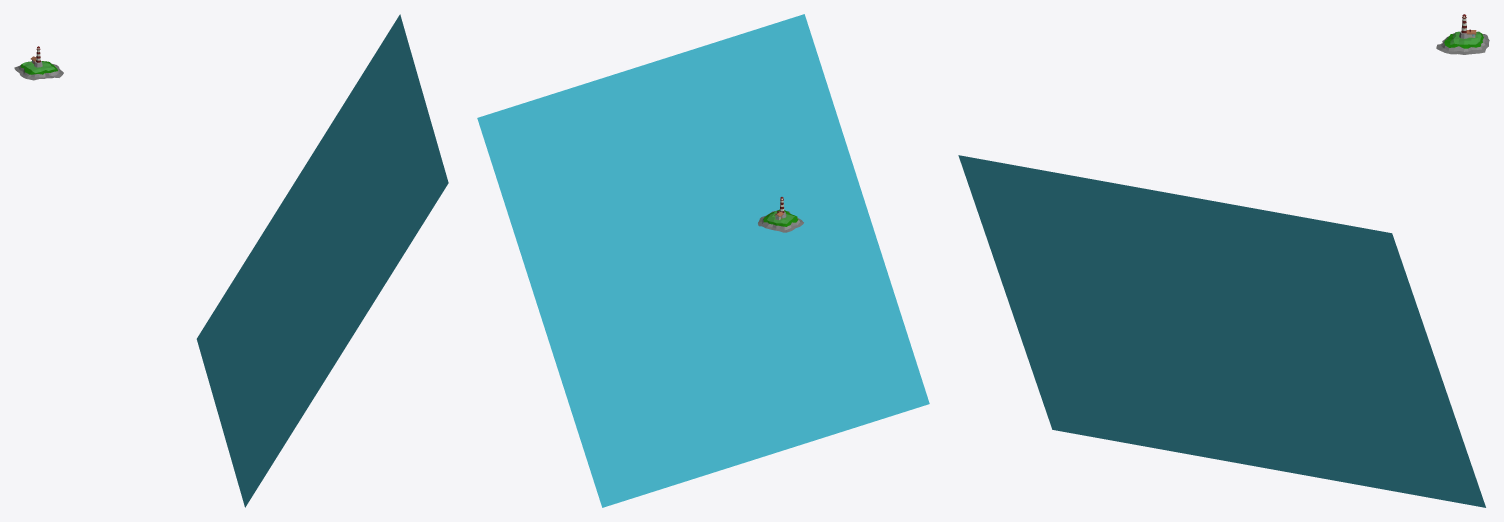
File: Faro.glb
The picture shows the model from 3 angles, left to right: view 1: azimuth 30°, elevation 25°; view 2: azimuth 150°, elevation 25°; view 3: azimuth 270°, elevation 25°; orthographic projection. The views are drawn at different scales.
Visible parts, largest first — view 1: Plane.001, Plane; view 2: Plane.001, Plane; view 3: Plane.001, Plane.
Boxes of the visible parts, left/top/right/bottom form: Plane.001: left=196, top=14, right=448, bottom=507; Plane: left=14, top=61, right=63, bottom=80; Plane.001: left=477, top=14, right=929, bottom=507; Plane: left=758, top=209, right=803, bottom=232; Plane.001: left=958, top=155, right=1485, bottom=507; Plane: left=1436, top=31, right=1489, bottom=54.
Size of the model in its own units: 71.39 by 66.58 by 80.5.
